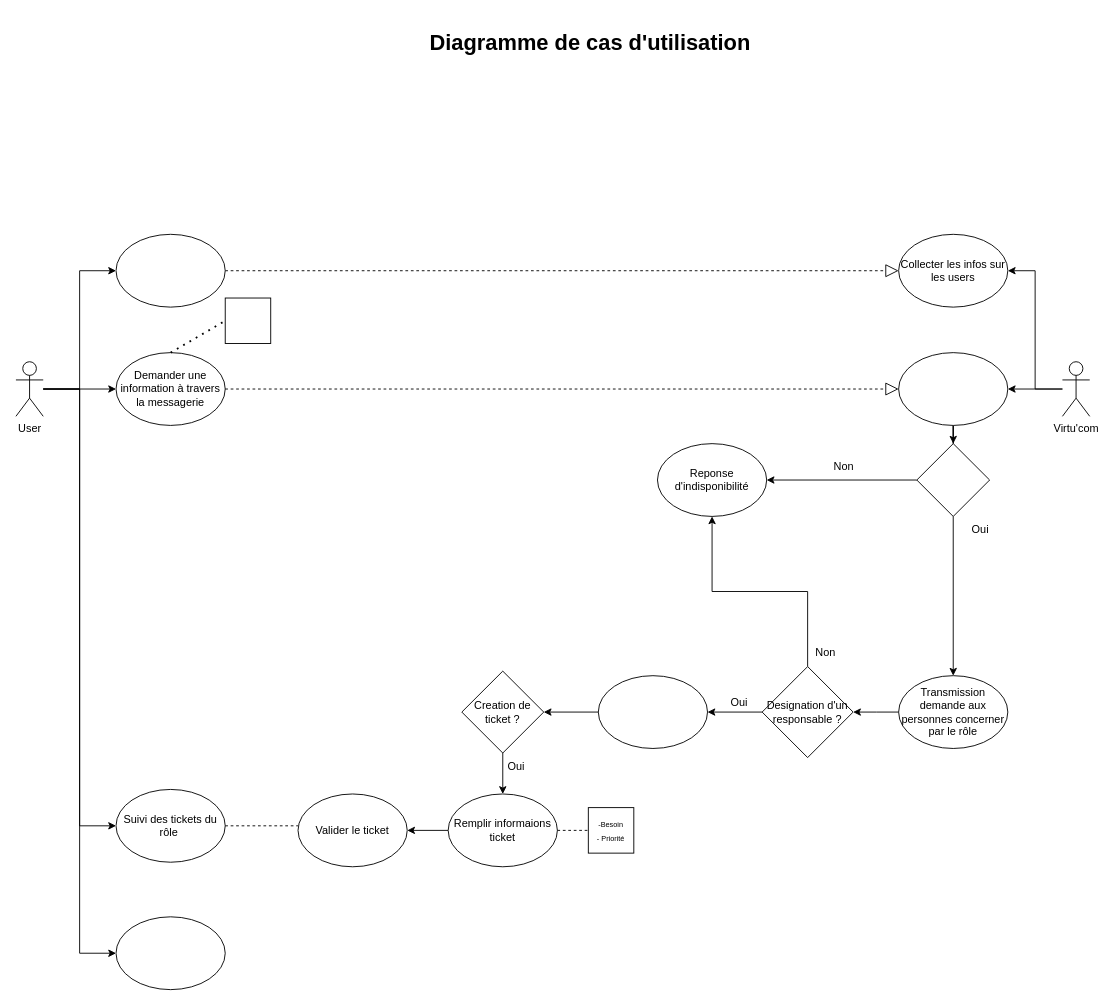
Some shapes in this 1114 by 1006 pixel diagram are drawn without their labels. Each missing label, with the centre of its shape:
"-Demande -Rôle" goes at point 247,320.
"Consulter les conversations" goes at point 170,953.
"Creation de conversation 1 V (rôle)" goes at point 652,711.
"Dispos ?" goes at point 953,479.
"Remplir les informations personnel" goes at point 170,270.
"Verification des dispos" goes at point 953,388.
